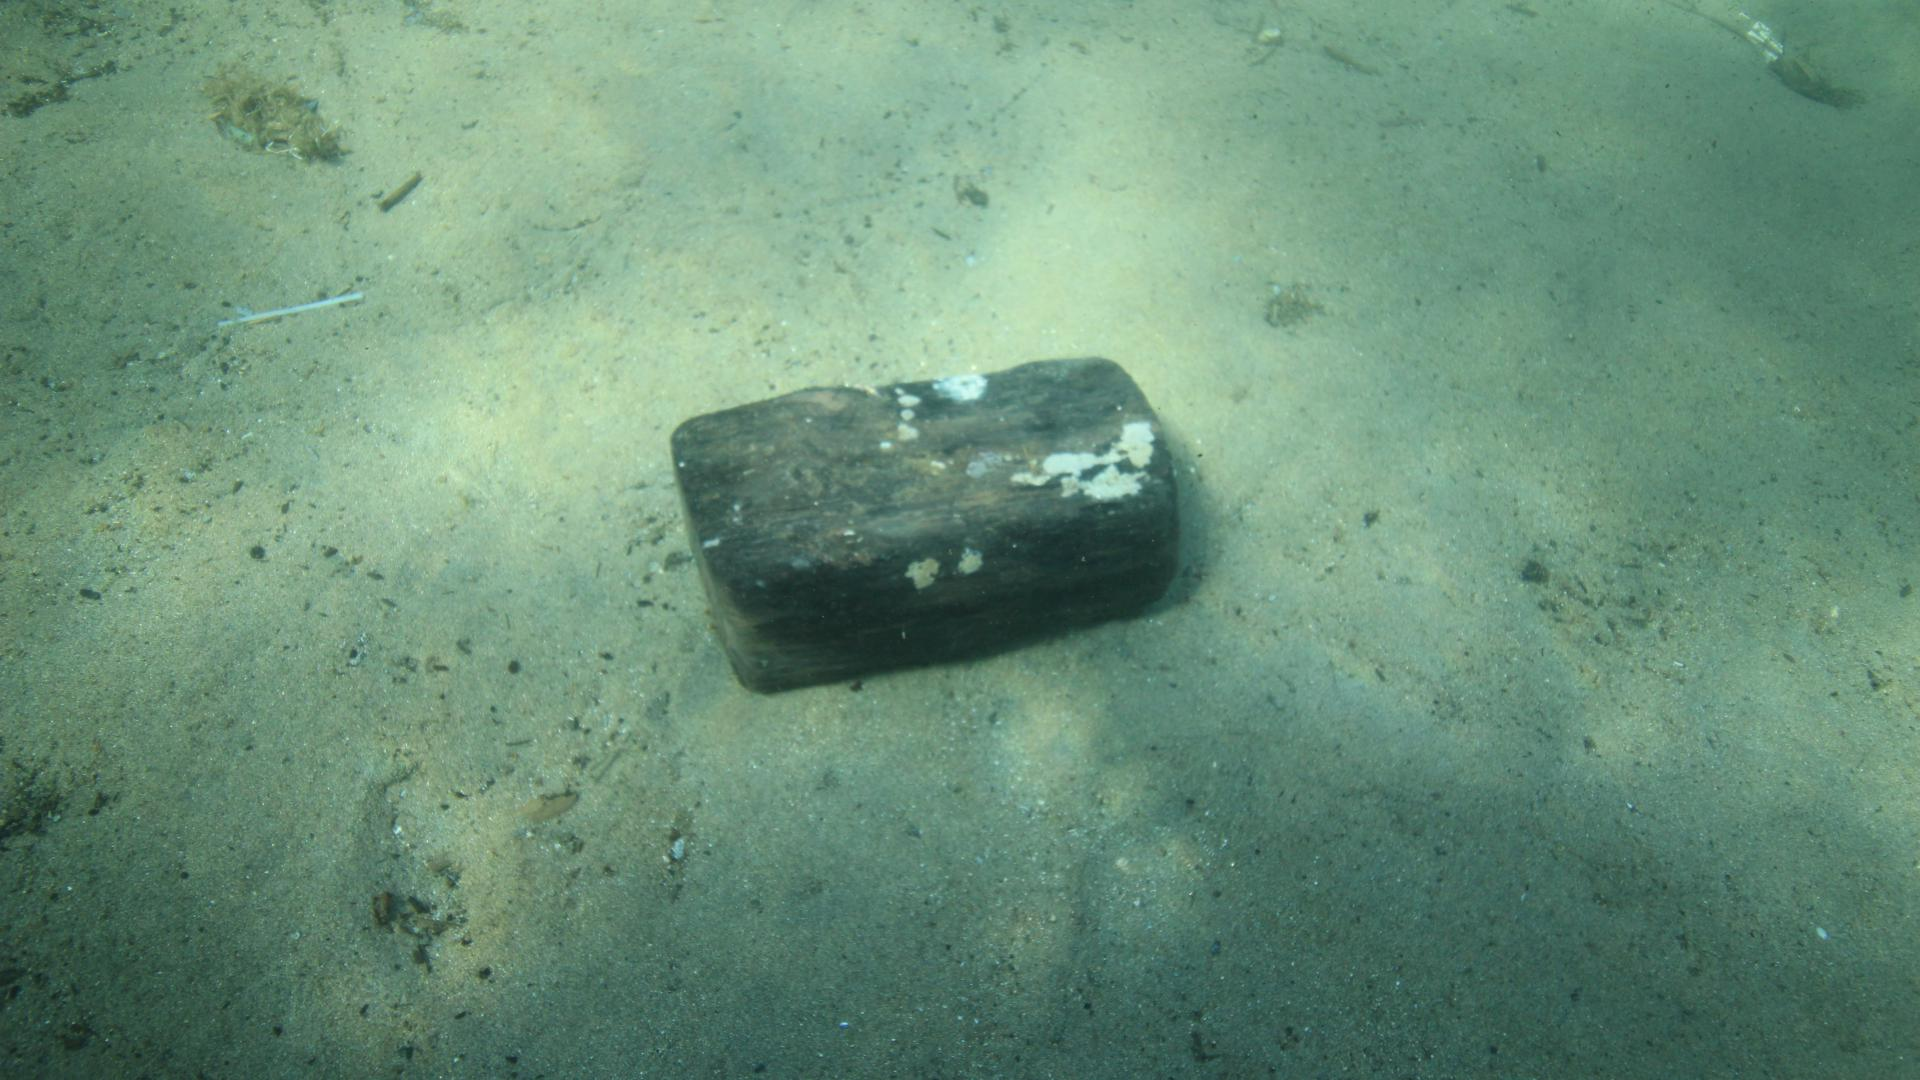wood: (667, 356, 1179, 695)
